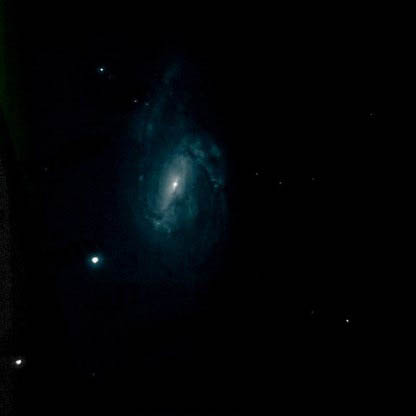Messier 66: (75, 94, 238, 285)
